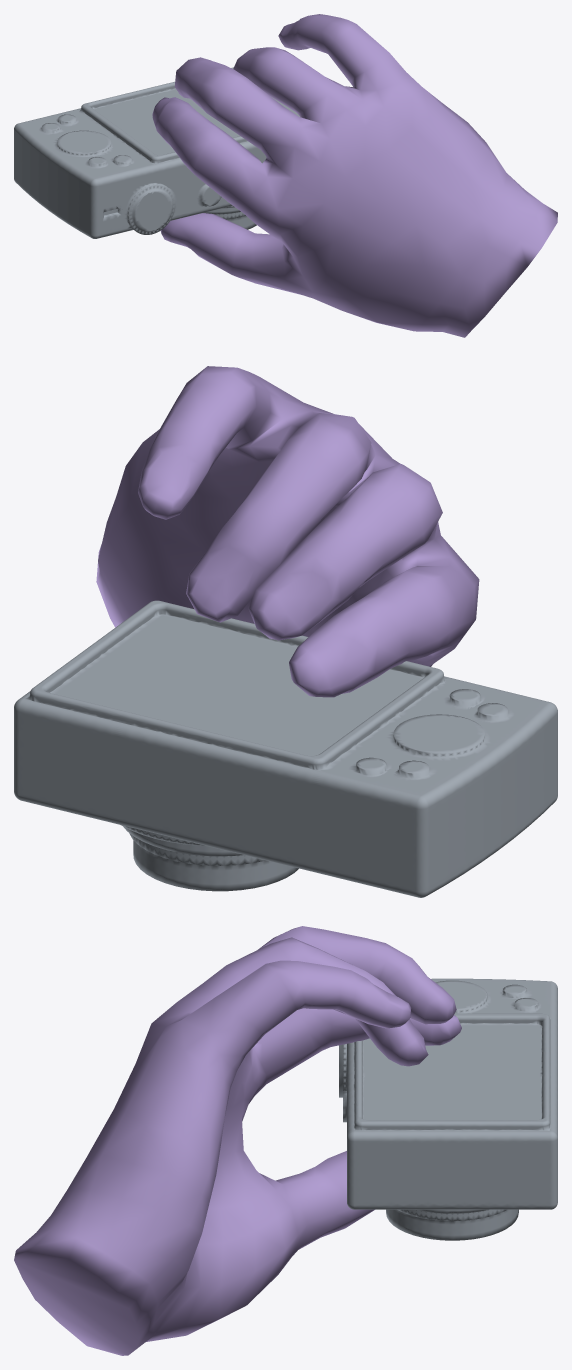
The model's file is ours_3.glb.
The picture shows the model from 3 angles, top to bottom: view 1: azimuth 30°, elevation 25°; view 2: azimuth 150°, elevation 25°; view 3: azimuth 270°, elevation 25°; orthographic projection. The views are drawn at different scales.
Bounding box in the file's own units: 0.1698 × 0.121 × 0.1677.
